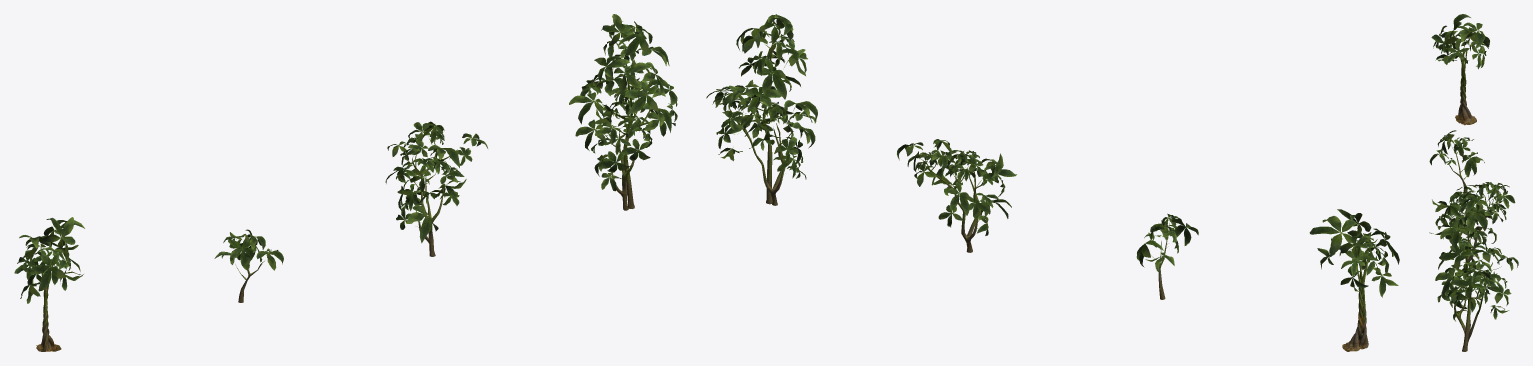
The model's file is pachira_aquatica_01.glb.
3 views of the same model, side by side, from view 1: azimuth 30°, elevation 25°; view 2: azimuth 150°, elevation 25°; view 3: azimuth 270°, elevation 25° (orthographic). The views are drawn at different scales.
Visible parts, largest first — view 1: pachira_aquatica_01_leaves_d, pachira_aquatica_01_leaves_c, pachira_aquatica_01_leaves_a, pachira_aquatica_01_leaves_b, pachira_aquatica_01_bark_d, pachira_aquatica_01_bark_c, pachira_aquatica_01_bark_a; view 2: pachira_aquatica_01_leaves_d, pachira_aquatica_01_leaves_c, pachira_aquatica_01_leaves_a, pachira_aquatica_01_leaves_b, pachira_aquatica_01_bark_d, pachira_aquatica_01_bark_a, pachira_aquatica_01_bark_c; view 3: pachira_aquatica_01_leaves_d, pachira_aquatica_01_leaves_c, pachira_aquatica_01_leaves_a, pachira_aquatica_01_leaves_b, pachira_aquatica_01_bark_d, pachira_aquatica_01_bark_a, pachira_aquatica_01_bark_c, pachira_aquatica_01_bark_b.
Part boxes in pixels (<box>): pachira_aquatica_01_leaves_d: <box>569,14,677,191</box>; pachira_aquatica_01_leaves_c: <box>385,121,487,243</box>; pachira_aquatica_01_leaves_a: <box>14,217,84,303</box>; pachira_aquatica_01_leaves_b: <box>214,229,283,279</box>; pachira_aquatica_01_bark_d: <box>597,44,652,210</box>; pachira_aquatica_01_bark_c: <box>410,139,457,256</box>; pachira_aquatica_01_bark_a: <box>36,265,61,351</box>; pachira_aquatica_01_leaves_d: <box>706,14,817,179</box>; pachira_aquatica_01_leaves_c: <box>897,139,1016,235</box>; pachira_aquatica_01_leaves_a: <box>1309,209,1399,297</box>; pachira_aquatica_01_leaves_b: <box>1136,213,1198,274</box>; pachira_aquatica_01_bark_d: <box>728,43,793,205</box>; pachira_aquatica_01_bark_a: <box>1342,259,1368,351</box>; pachira_aquatica_01_bark_c: <box>923,160,985,252</box>; pachira_aquatica_01_leaves_d: <box>1429,190,1518,321</box>; pachira_aquatica_01_leaves_c: <box>1432,182,1515,244</box>; pachira_aquatica_01_leaves_a: <box>1431,14,1489,69</box>; pachira_aquatica_01_leaves_b: <box>1429,130,1484,179</box>; pachira_aquatica_01_bark_d: <box>1454,219,1492,351</box>; pachira_aquatica_01_bark_a: <box>1455,48,1476,125</box>; pachira_aquatica_01_bark_c: <box>1453,194,1496,268</box>; pachira_aquatica_01_bark_b: <box>1449,149,1467,195</box>.
Bounding box in the file's own units: 6.87 × 1.9 × 0.997.
2 materials, 2 textured.
